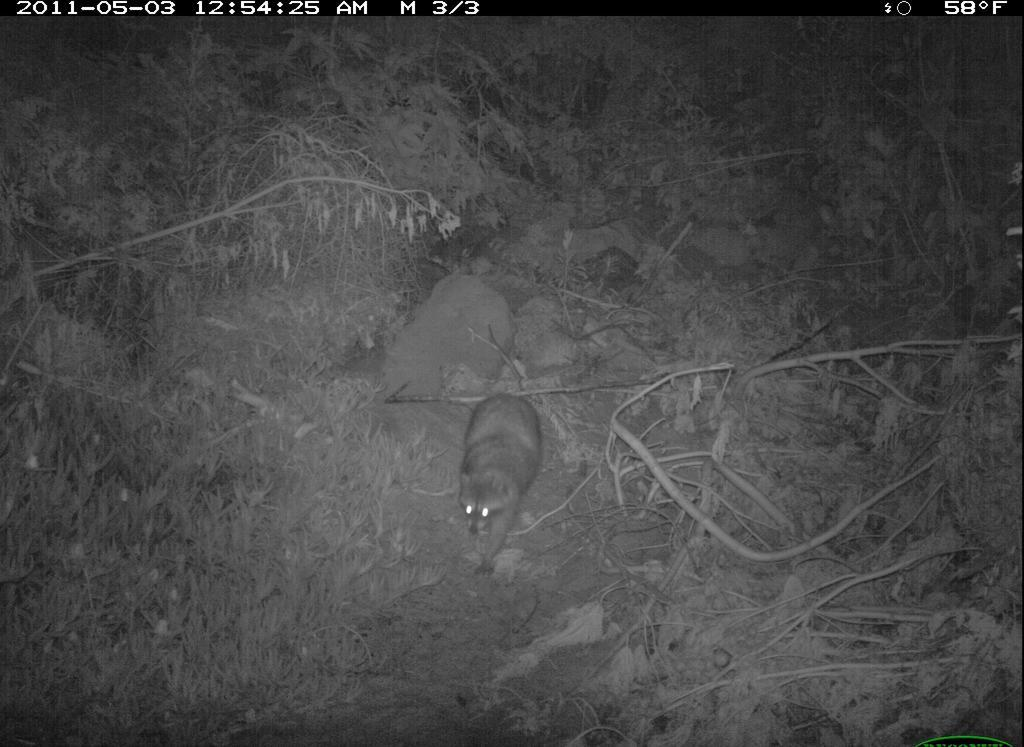raccoon: (447, 388, 551, 583)
